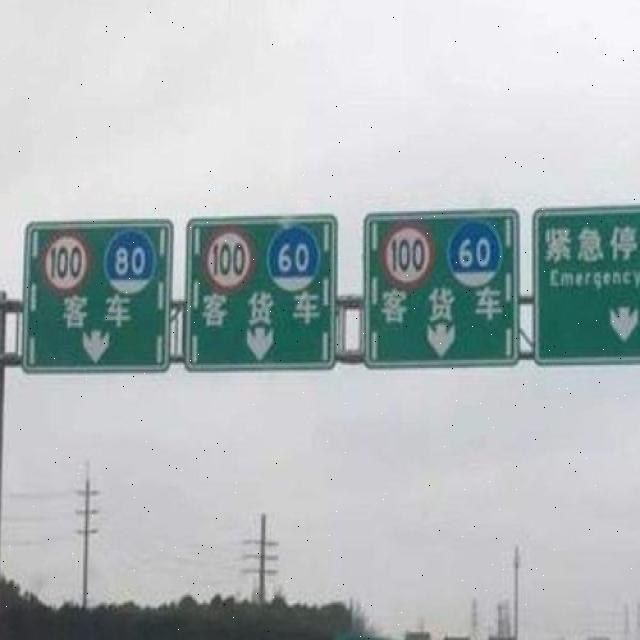speed limit 100: (381, 218, 433, 290), (204, 224, 255, 292), (43, 231, 92, 295)
speed limit 60: (447, 219, 503, 289), (267, 224, 320, 294)
speed limit 80: (105, 230, 156, 297)
